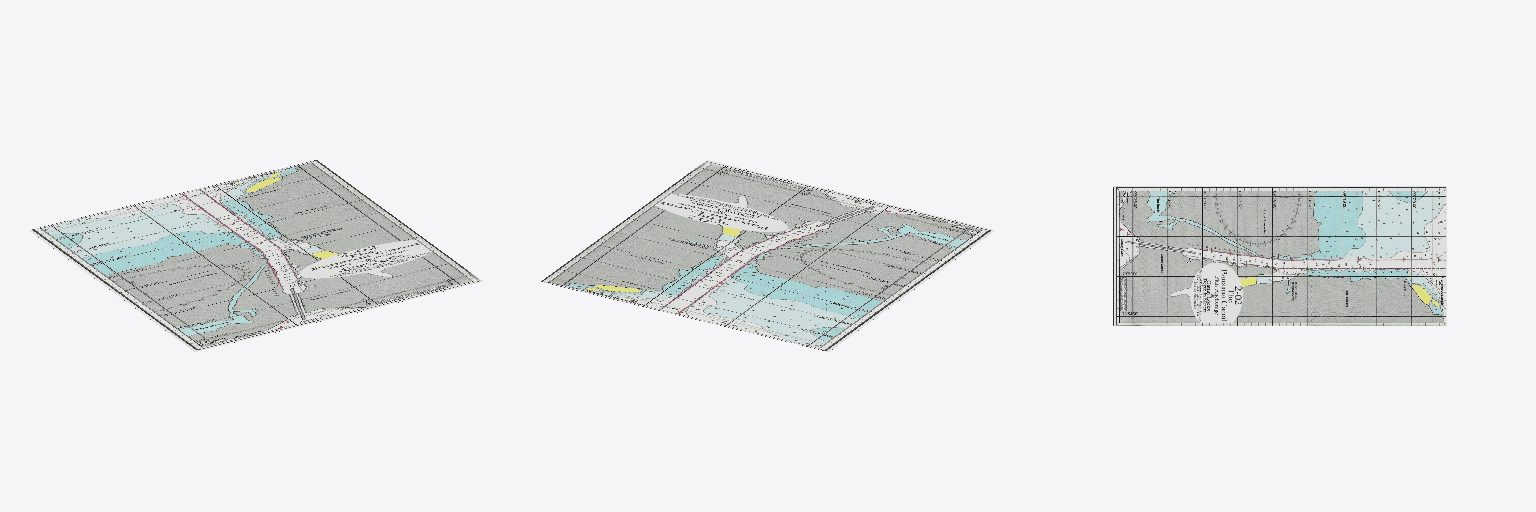
3 views of the same model, side by side, from view 1: azimuth 30°, elevation 25°; view 2: azimuth 150°, elevation 25°; view 3: azimuth 270°, elevation 25° (orthographic).
Parts seen in each view (by area): view 1: Plane; view 2: Plane; view 3: Plane.
Boxes of the visible parts, x1=… form: Plane: x1=29, y1=160, x2=482, y2=351; Plane: x1=541, y1=160, x2=994, y2=351; Plane: x1=1113, y1=186, x2=1446, y2=325.
Bounding box in the file's own units: 2 × 0 × 2.
Materials: 1 (1 with a texture image).